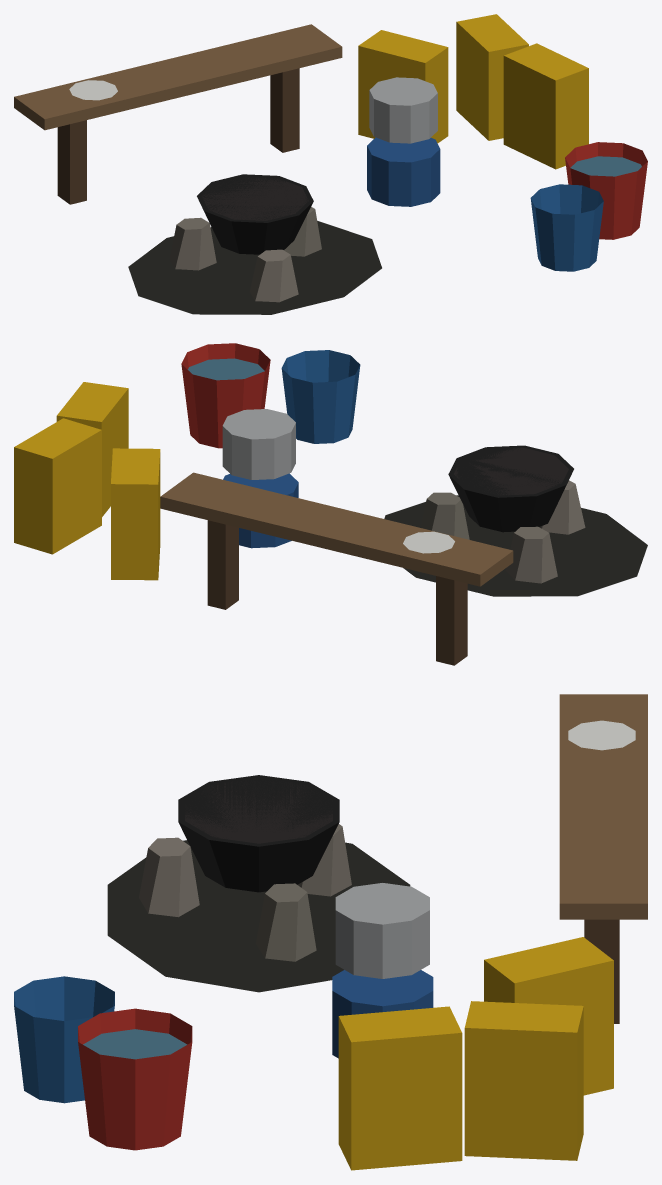
The model's file is ns_camp_kitchen_lod1.glb.
The picture shows the model from 3 angles, top to bottom: view 1: azimuth 30°, elevation 25°; view 2: azimuth 150°, elevation 25°; view 3: azimuth 270°, elevation 25°; orthographic projection. The views are drawn at different scales.
Visible parts, largest first — view 1: ns_camp_kitchen_lod1; view 2: ns_camp_kitchen_lod1; view 3: ns_camp_kitchen_lod1.
Part boxes in pixels (x1,y1,x2,y2): ns_camp_kitchen_lod1: (14, 14, 647, 314); ns_camp_kitchen_lod1: (14, 343, 647, 665); ns_camp_kitchen_lod1: (14, 694, 647, 1170).
Size of the model in its own units: 2.27 by 0.462 by 1.79.
